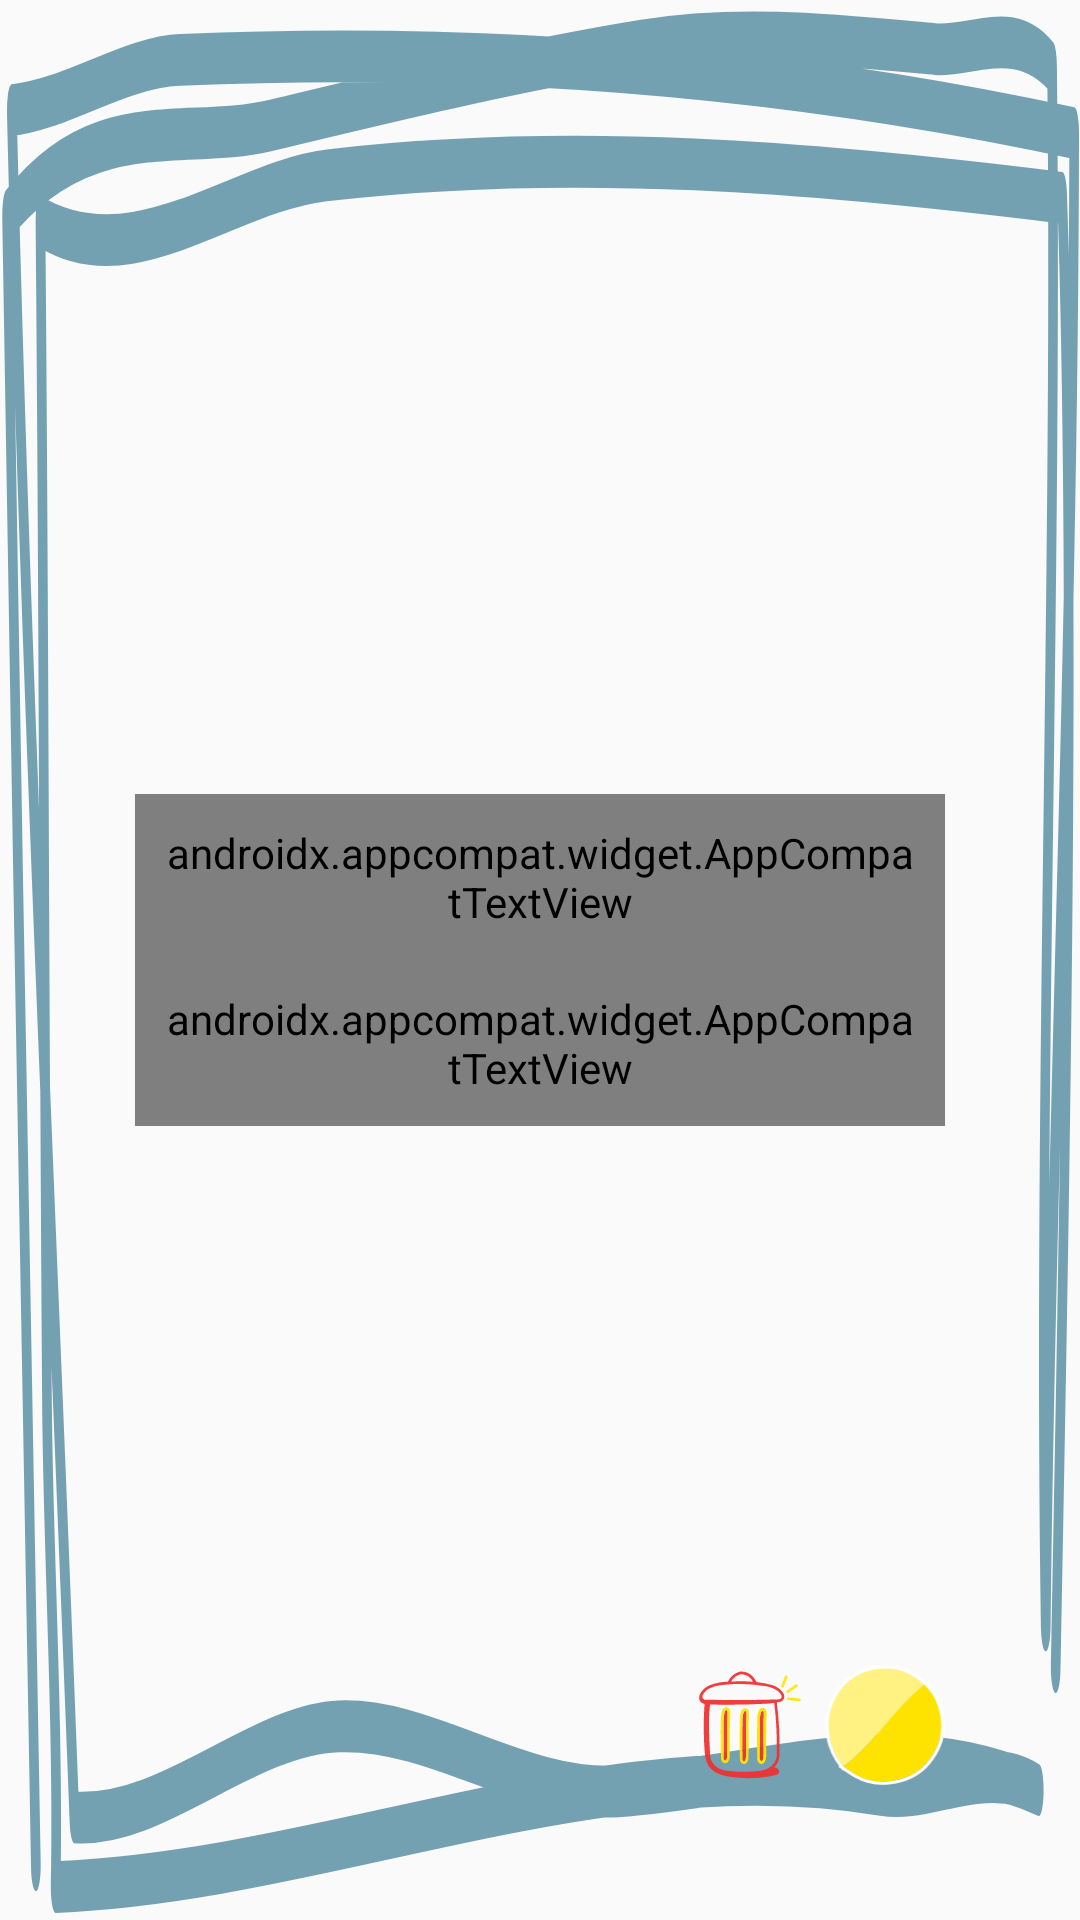

Screen size 1080px×1920px. Icon name, then its center in pixels as (x=x, y=y):
delete: (x=750, y=1725)
